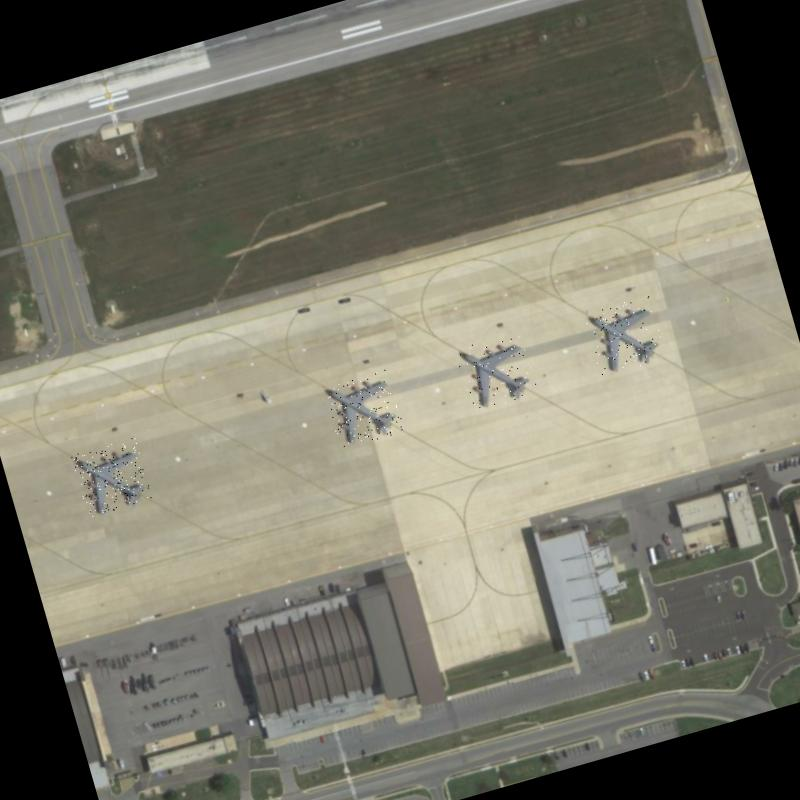A14: (453, 329, 539, 414), (582, 294, 668, 377), (322, 368, 405, 450), (70, 436, 152, 518)
